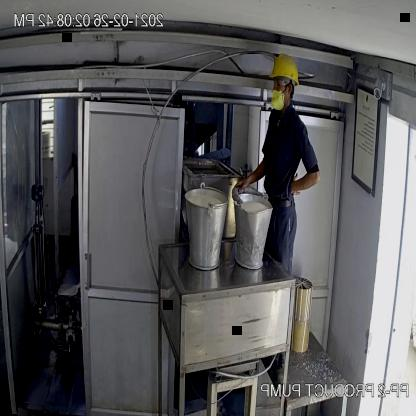helmet: (270, 50, 304, 88)
